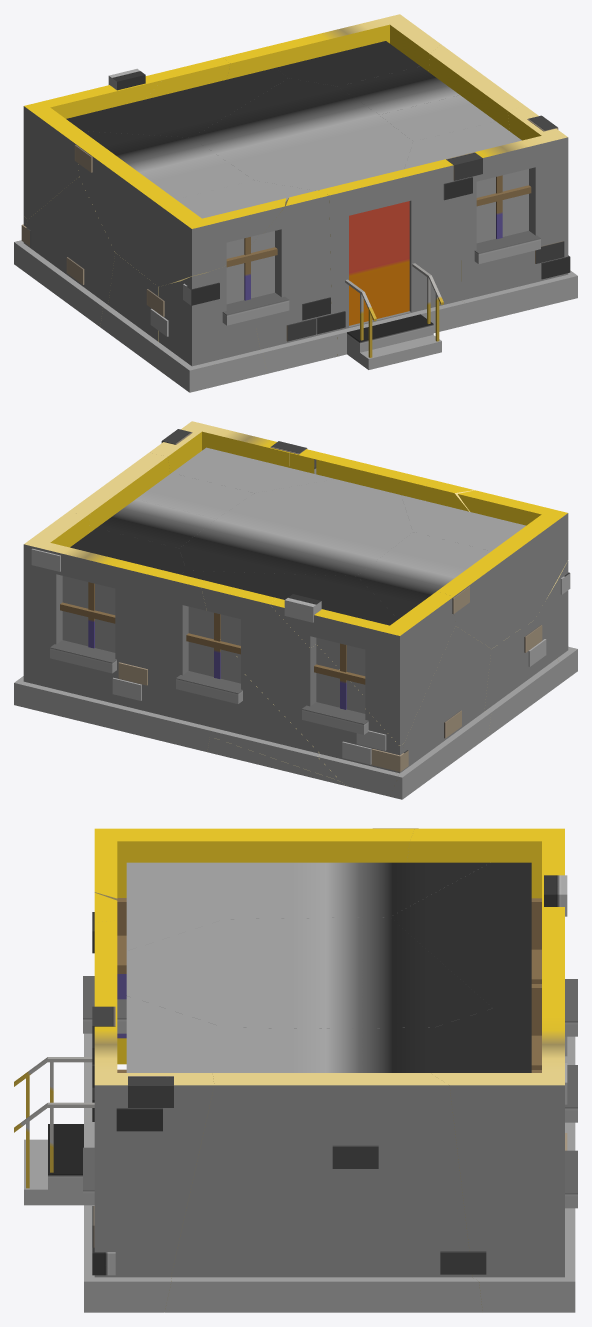
File: House2_bot_cell.fbx
3 views of the same model, one above another, from view 1: azimuth 30°, elevation 25°; view 2: azimuth 150°, elevation 25°; view 3: azimuth 270°, elevation 25° (orthographic). The views are drawn at different scales.
Parts seen in each view (by area): view 1: polySurface299_cell.012, polySurface299_cell.009, polySurface301_cell.003, polySurface299_cell.005, polySurface299_cell, polySurface299_cell.006, polySurface299_cell.013, polySurface301_cell.010, polySurface299_cell.003, polySurface301_cell.002, polySurface299_cell.001, polySurface299_cell.002 (+21 smaller); view 2: polySurface299_cell.001, polySurface301_cell.003, polySurface299_cell.010, polySurface299_cell.013, polySurface299_cell.005, polySurface299_cell.006, polySurface299_cell.011, polySurface301_cell.002, polySurface301_cell.010, polySurface299_cell.002, polySurface301_cell.012, polySurface301_cell.004 (+21 smaller); view 3: polySurface299_cell.008, polySurface301_cell.003, polySurface299_cell.001, polySurface299_cell.009, polySurface301_cell.010, polySurface301_cell.002, polySurface299_cell.005, polySurface301_cell.004, polySurface299_cell.013, polySurface301_cell.012, polySurface301_cell.001, polySurface301_cell.009 (+16 smaller).
Part boxes in pixels (x1=…): polySurface299_cell.012: x1=319, y1=159, x2=465, y2=356; polySurface299_cell.009: x1=461, y1=106, x2=577, y2=325; polySurface301_cell.003: x1=192, y1=78, x2=412, y2=190; polySurface299_cell.005: x1=77, y1=142, x2=286, y2=286; polySurface299_cell: x1=240, y1=190, x2=337, y2=373; polySurface299_cell.006: x1=14, y1=177, x2=115, y2=326; polySurface299_cell.013: x1=23, y1=74, x2=161, y2=218; polySurface301_cell.010: x1=66, y1=68, x2=288, y2=137; polySurface299_cell.003: x1=152, y1=264, x2=266, y2=386; polySurface301_cell.002: x1=83, y1=131, x2=253, y2=199; polySurface299_cell.001: x1=222, y1=14, x2=440, y2=79; polySurface299_cell.002: x1=100, y1=253, x2=158, y2=364; polySurface299_cell.001: x1=14, y1=513, x2=213, y2=751; polySurface301_cell.003: x1=179, y1=479, x2=412, y2=576; polySurface299_cell.010: x1=201, y1=581, x2=403, y2=796; polySurface299_cell.013: x1=269, y1=591, x2=455, y2=745; polySurface299_cell.005: x1=437, y1=490, x2=568, y2=648; polySurface299_cell.006: x1=389, y1=626, x2=491, y2=799; polySurface299_cell.011: x1=210, y1=639, x2=340, y2=781; polySurface301_cell.002: x1=357, y1=532, x2=491, y2=619; polySurface301_cell.010: x1=181, y1=570, x2=397, y2=625; polySurface299_cell.002: x1=484, y1=620, x2=540, y2=736; polySurface301_cell.012: x1=172, y1=447, x2=335, y2=493; polySurface301_cell.004: x1=401, y1=495, x2=525, y2=550; polySurface299_cell.008: x1=164, y1=1073, x2=482, y2=1312; polySurface301_cell.003: x1=126, y1=917, x2=492, y2=1028; polySurface299_cell.001: x1=431, y1=964, x2=575, y2=1312; polySurface299_cell.009: x1=84, y1=1013, x2=214, y2=1312; polySurface301_cell.010: x1=390, y1=862, x2=531, y2=1008; polySurface301_cell.002: x1=224, y1=862, x2=490, y2=919; polySurface299_cell.005: x1=94, y1=828, x2=414, y2=900; polySurface301_cell.004: x1=126, y1=862, x2=224, y2=950; polySurface299_cell.013: x1=407, y1=828, x2=564, y2=917; polySurface301_cell.012: x1=126, y1=996, x2=223, y2=1072; polySurface301_cell.001: x1=434, y1=1008, x2=531, y2=1072; polySurface301_cell.009: x1=324, y1=1027, x2=434, y2=1072.
Size of the model in its own units: 1400 by 579 by 1259.
